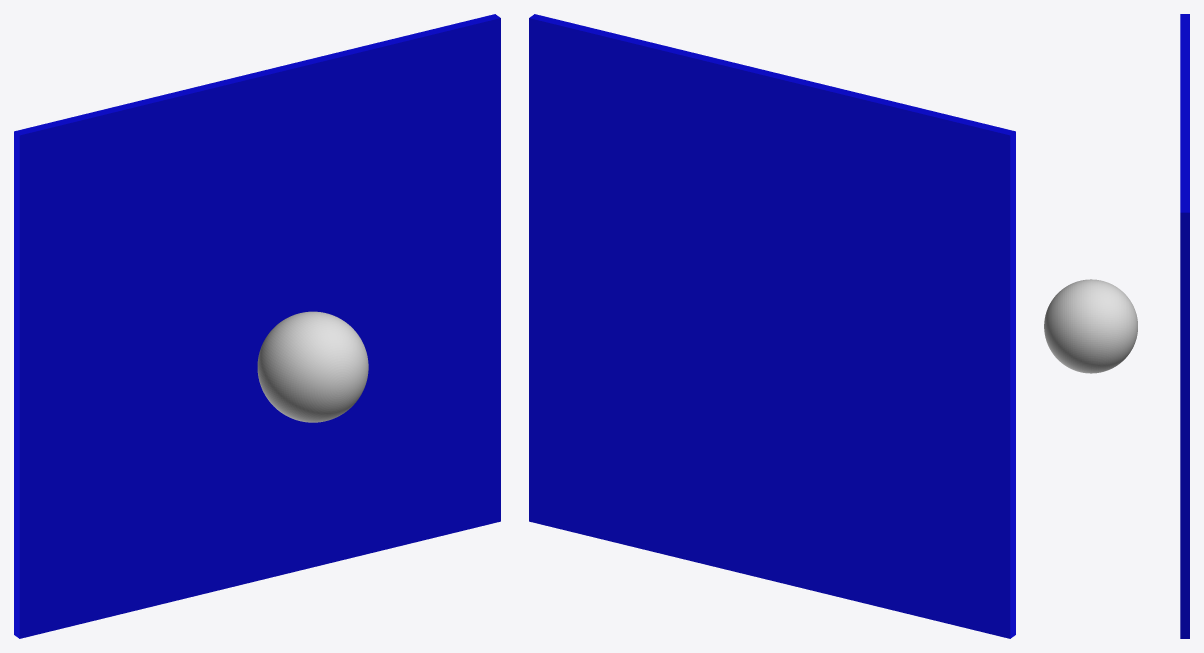
File: timecode_ex1.glb
3 renders of one model, left to right at view 1: azimuth 30°, elevation 25°; view 2: azimuth 150°, elevation 25°; view 3: azimuth 270°, elevation 25°, orthographic. The views are drawn at different scales.
Parts seen in each view (by area): view 1: Backdrop, Sphere; view 2: Backdrop; view 3: Sphere, Backdrop.
Boxes of the visible parts, x1,y1,x2,y2 form: Backdrop: (14,14,500,638); Sphere: (257,311,368,422); Backdrop: (529,14,1015,638); Sphere: (1044,279,1137,373); Backdrop: (1180,14,1189,638).
Size of the model in its own units: 10 by 10 by 3.1.
